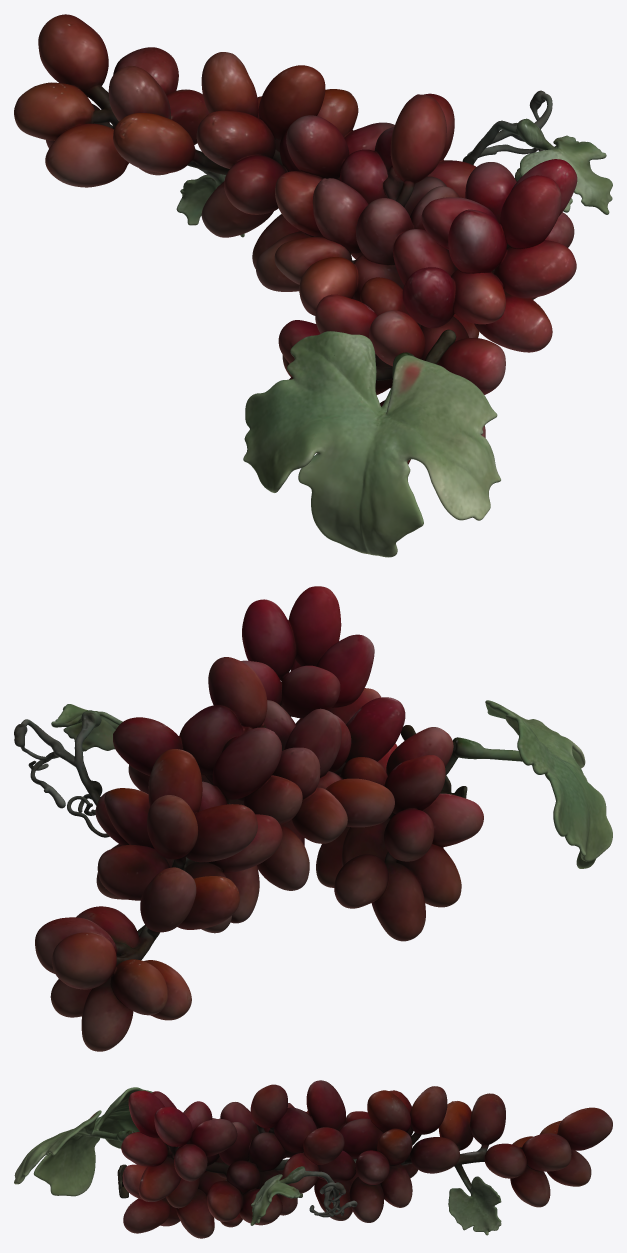
File: grapes 3D.glb
3 renders of one model, top to bottom at view 1: azimuth 30°, elevation 25°; view 2: azimuth 150°, elevation 25°; view 3: azimuth 270°, elevation 25°, orthographic. The views are drawn at different scales.
Visible parts, largest first — view 1: tripo_node_d1948b56-b800-4786-a505-d51ff0dd0ae7; view 2: tripo_node_d1948b56-b800-4786-a505-d51ff0dd0ae7; view 3: tripo_node_d1948b56-b800-4786-a505-d51ff0dd0ae7.
Boxes of the visible parts, <box> form: tripo_node_d1948b56-b800-4786-a505-d51ff0dd0ae7: <box>14,14,612,557</box>; tripo_node_d1948b56-b800-4786-a505-d51ff0dd0ae7: <box>14,586,612,1051</box>; tripo_node_d1948b56-b800-4786-a505-d51ff0dd0ae7: <box>14,1080,612,1238</box>.
Bounding box in the file's own units: 0.5517 × 0.3276 × 1.
1 material, 1 textured.
